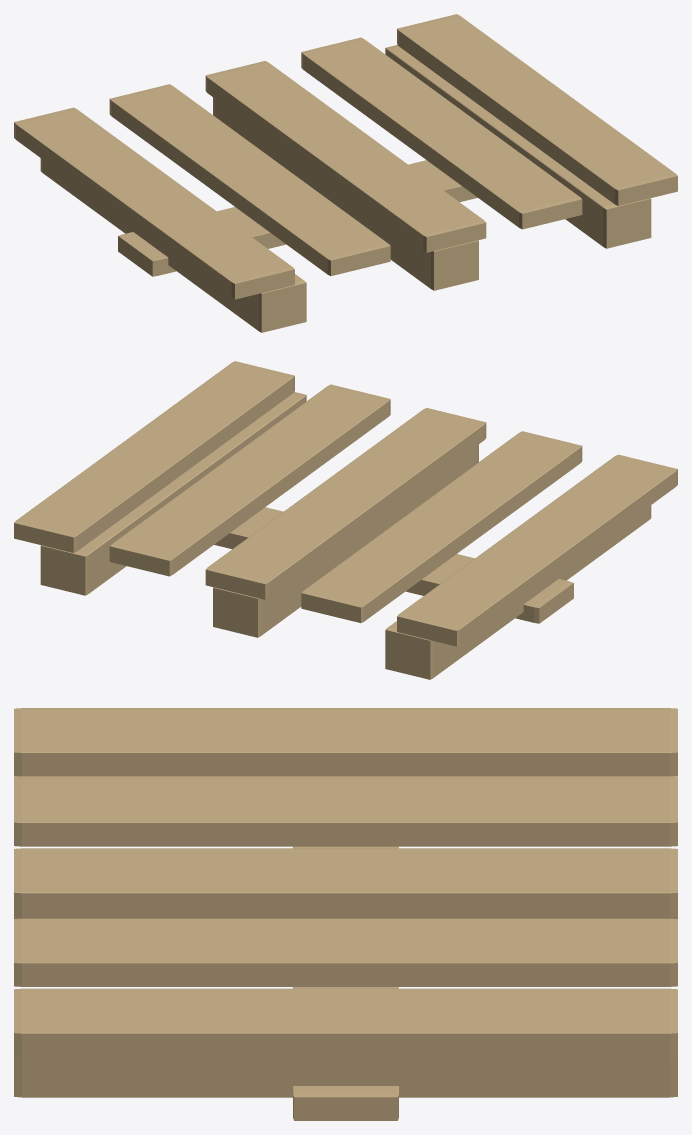
File: Pallet.fbx
The picture shows the model from 3 angles, top to bottom: view 1: azimuth 30°, elevation 25°; view 2: azimuth 150°, elevation 25°; view 3: azimuth 270°, elevation 25°; orthographic projection. The views are drawn at different scales.
Visible parts, largest first — view 1: TopSlat_-0.25, TopSlat_0, TopSlat_0.25, TopSlat_-0.5, TopSlat_0.5, Block_0.45, Block_0, Block_-0.45, BottomSlat; view 2: TopSlat_-0.25, TopSlat_0, TopSlat_0.25, TopSlat_-0.5, TopSlat_0.5, Block_0.45, Block_0, Block_-0.45, BottomSlat; view 3: TopSlat_-0.25, TopSlat_0, TopSlat_-0.5, TopSlat_0.25, TopSlat_0.5, Block_0.45, BottomSlat, Block_-0.45, Block_0.
Part boxes in pixels (left/top/right/bottom): TopSlat_-0.25: left=109, top=84, right=390, bottom=275; TopSlat_0: left=205, top=61, right=486, bottom=252; TopSlat_0.25: left=301, top=37, right=582, bottom=229; TopSlat_-0.5: left=14, top=107, right=294, bottom=299; TopSlat_0.5: left=397, top=14, right=677, bottom=205; Block_0.45: left=385, top=45, right=651, bottom=248; Block_0: left=213, top=97, right=478, bottom=290; Block_-0.45: left=40, top=158, right=306, bottom=332; BottomSlat: left=118, top=160, right=477, bottom=276; TopSlat_-0.25: left=301, top=431, right=582, bottom=622; TopSlat_0: left=205, top=408, right=486, bottom=599; TopSlat_0.25: left=109, top=384, right=390, bottom=576; TopSlat_-0.5: left=397, top=454, right=677, bottom=646; TopSlat_0.5: left=14, top=361, right=294, bottom=552; Block_0.45: left=40, top=392, right=306, bottom=595; Block_0: left=213, top=444, right=478, bottom=637; Block_-0.45: left=385, top=505, right=651, bottom=679; BottomSlat: left=214, top=507, right=573, bottom=623; TopSlat_-0.25: left=14, top=778, right=677, bottom=846; TopSlat_0: left=14, top=848, right=677, bottom=916; TopSlat_-0.5: left=14, top=708, right=677, bottom=776; TopSlat_0.25: left=14, top=918, right=677, bottom=986; TopSlat_0.5: left=14, top=988, right=677, bottom=1056; Block_0.45: left=14, top=1056, right=677, bottom=1097; BottomSlat: left=293, top=846, right=398, bottom=1120; Block_-0.45: left=14, top=776, right=677, bottom=778; Block_0: left=14, top=916, right=677, bottom=918.
Bounding box in the file's own units: 116 × 16 × 100.
